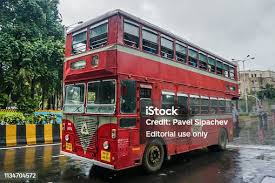bus: (60, 9, 241, 173)
